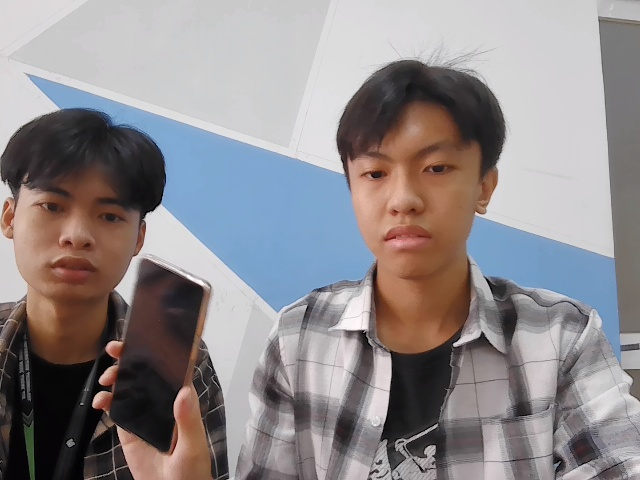human: (339, 65, 497, 274), (4, 112, 162, 297)
phone: (95, 253, 226, 447)
